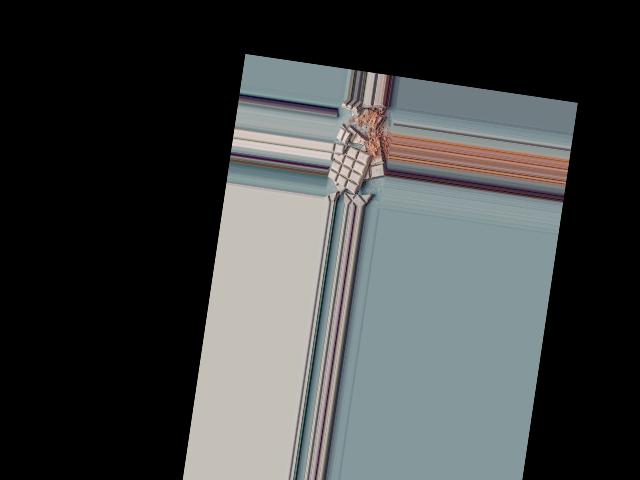chocolate: (325, 144, 371, 196)
